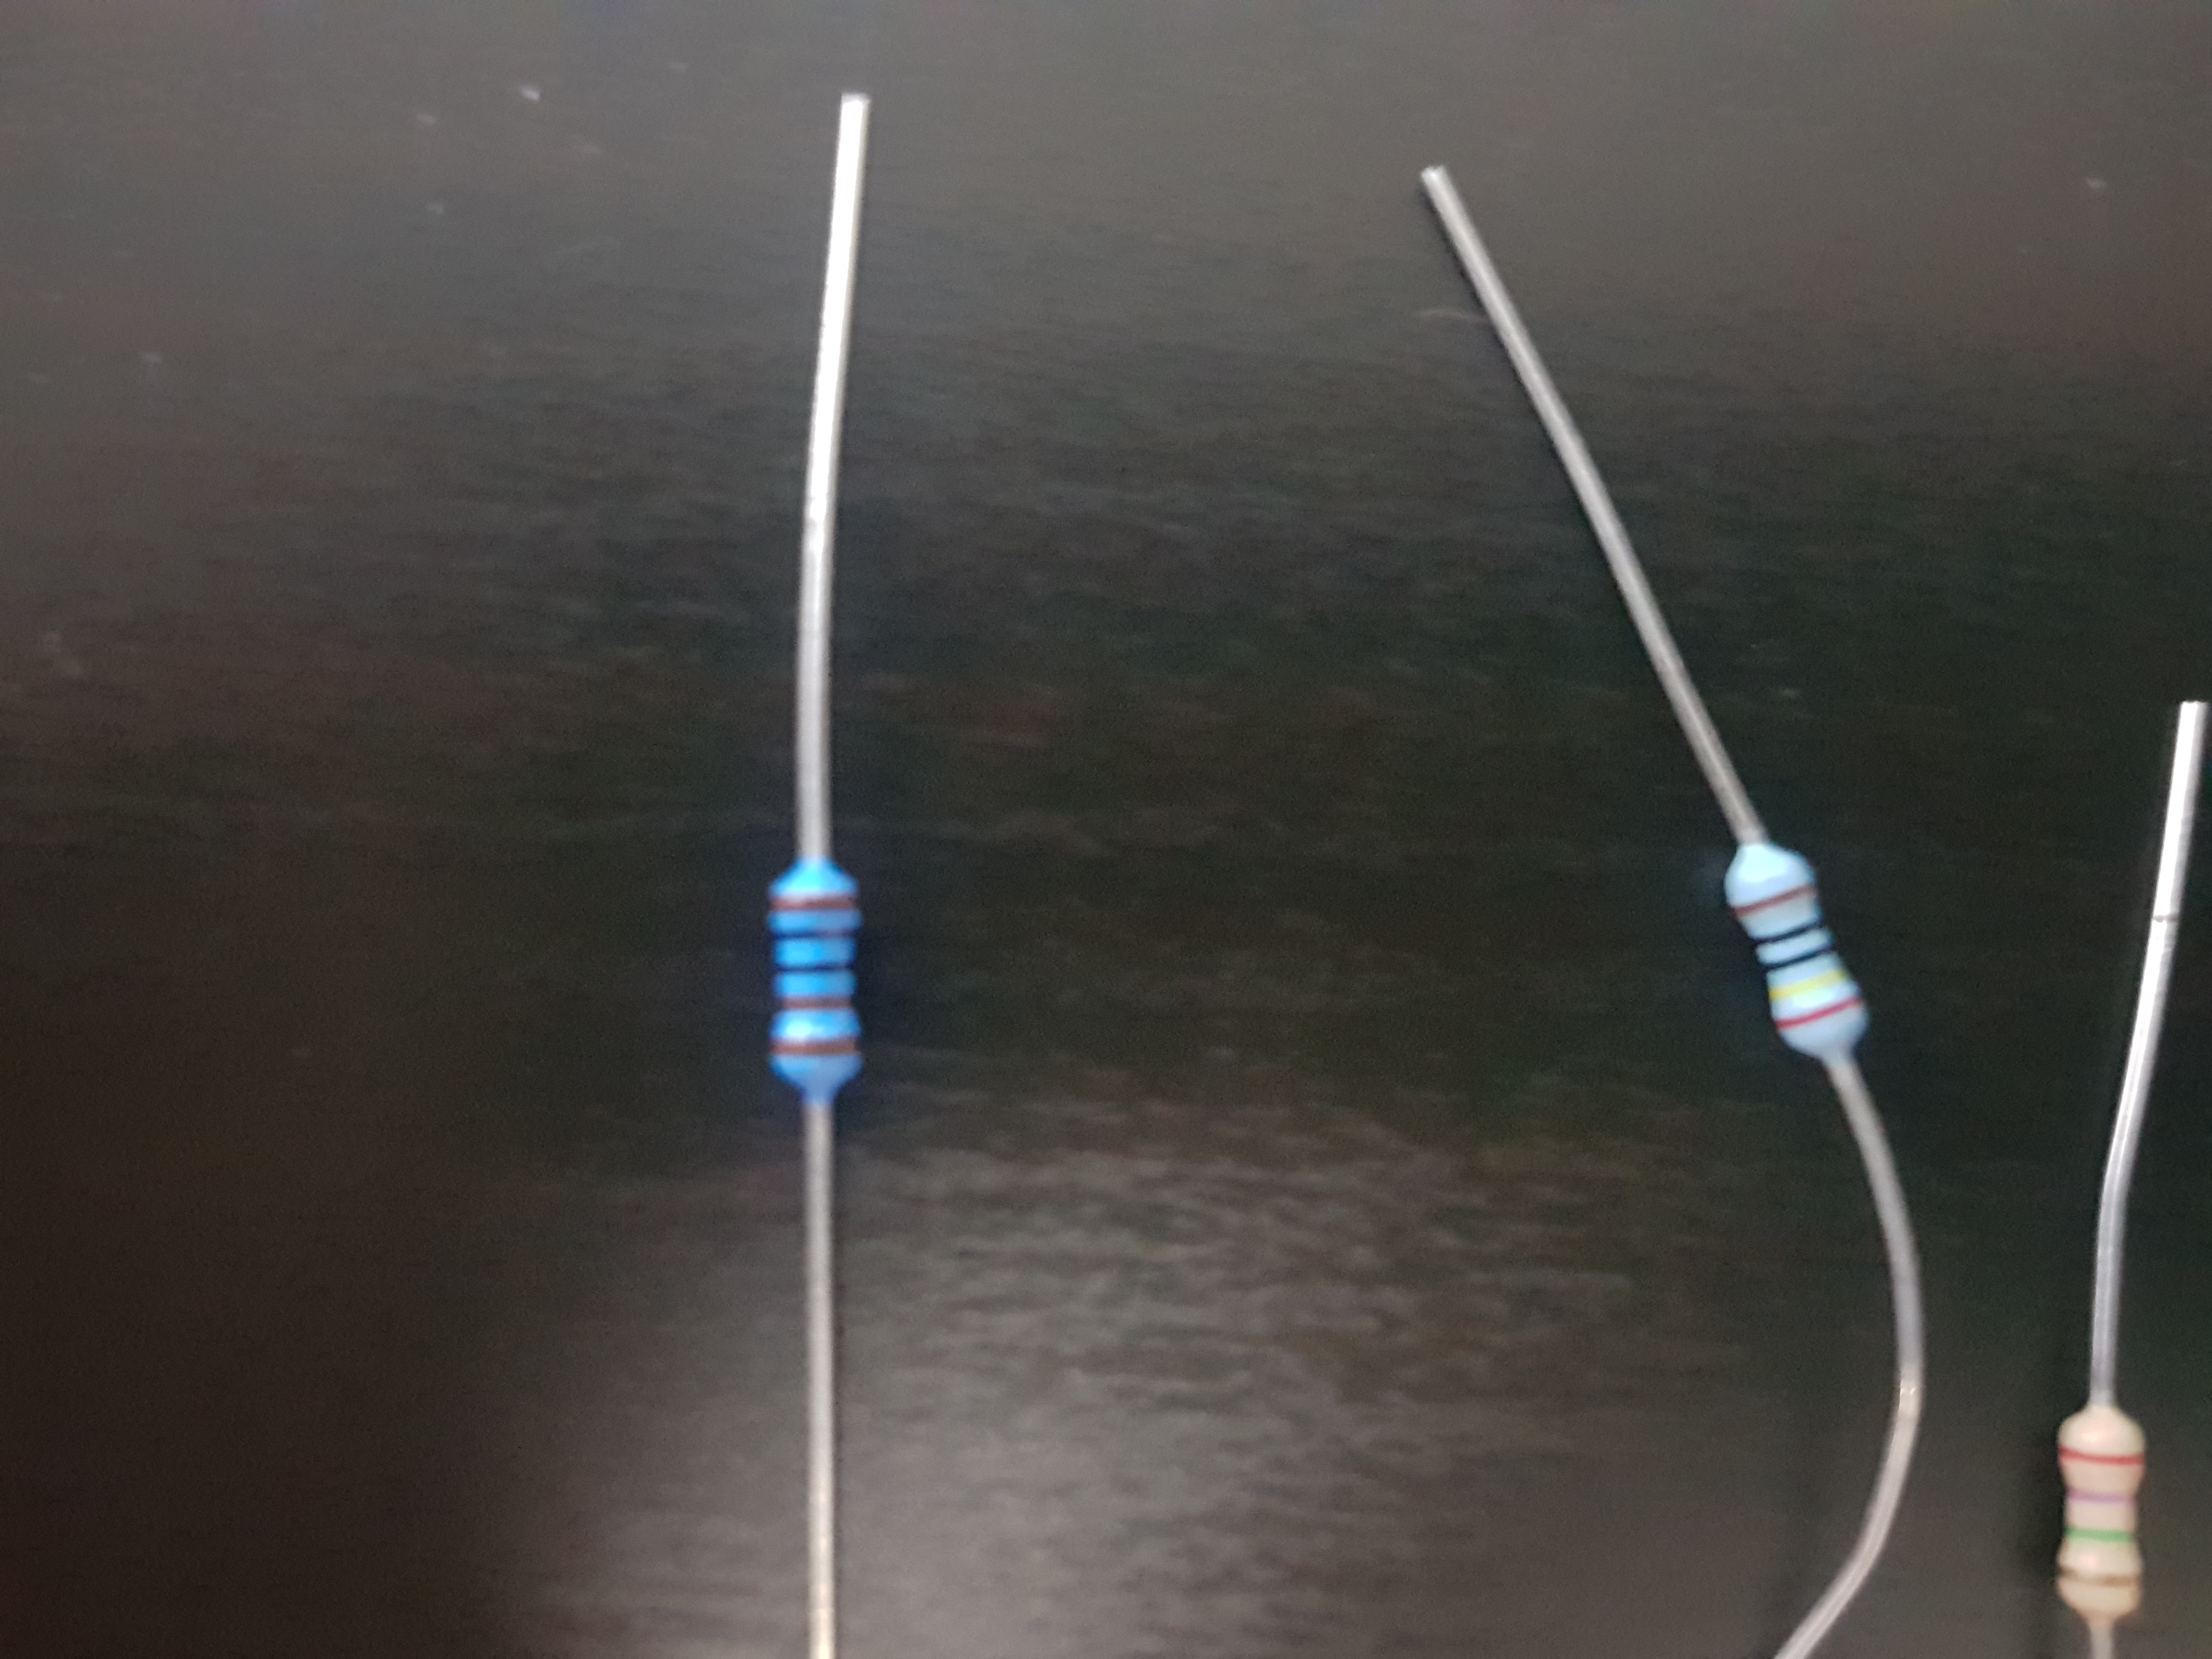resistor: (1552, 775, 1973, 1178), (660, 772, 967, 1248), (1994, 1267, 2202, 1659)
